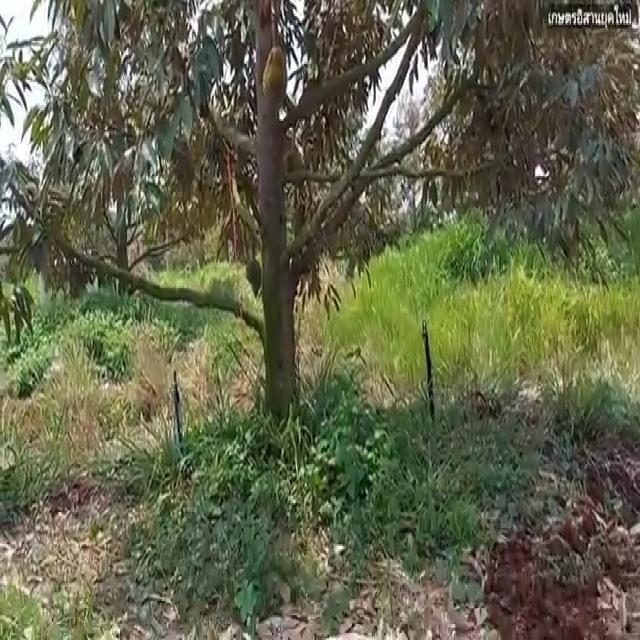durian: (261, 43, 290, 110), (243, 254, 266, 303)
